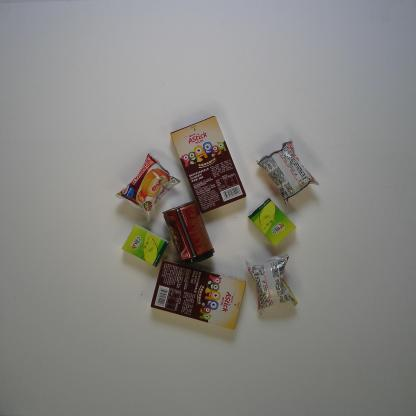Canned Food: (162, 198, 216, 263)
Dessert: (169, 114, 246, 216), (150, 258, 248, 334), (113, 151, 180, 225), (255, 139, 321, 206), (244, 254, 298, 318)
Tissue: (246, 197, 296, 249), (120, 224, 168, 268)
